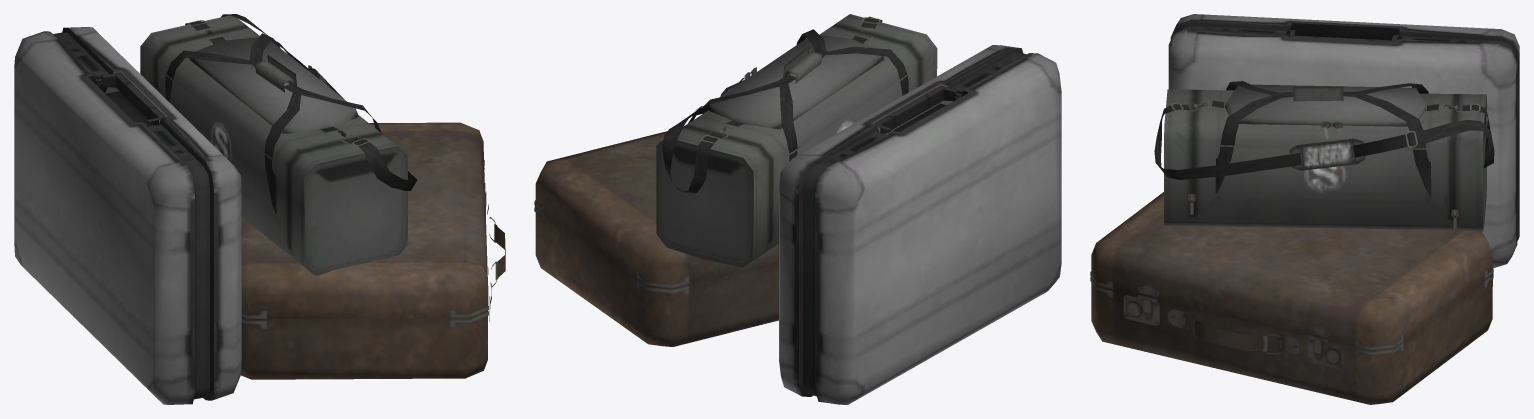
The model's file is ItemSpot.fbx.
The picture shows the model from 3 angles, left to right: view 1: azimuth 30°, elevation 25°; view 2: azimuth 150°, elevation 25°; view 3: azimuth 270°, elevation 25°; orthographic projection. The views are drawn at different scales.
Parts seen in each view (by area): view 1: ItemBox_Suitcase_04, ItemBox_Suitcase_01, ItemBox_Bag_01; view 2: ItemBox_Suitcase_04, ItemBox_Bag_01, ItemBox_Suitcase_01; view 3: ItemBox_Suitcase_01, ItemBox_Bag_01, ItemBox_Suitcase_04.
Part boxes in pixels (<box>): ItemBox_Suitcase_04: <box>14,27,241,404</box>; ItemBox_Suitcase_01: <box>241,122,505,379</box>; ItemBox_Bag_01: <box>140,14,417,275</box>; ItemBox_Suitcase_04: <box>779,45,1061,404</box>; ItemBox_Bag_01: <box>656,14,937,267</box>; ItemBox_Suitcase_01: <box>534,131,778,346</box>; ItemBox_Suitcase_01: <box>1090,192,1493,404</box>; ItemBox_Bag_01: <box>1154,81,1494,231</box>; ItemBox_Suitcase_04: <box>1168,14,1519,267</box>.
Bounding box in the file's own units: 1.28 × 0.7048 × 1.22.
1 material, 1 textured.
